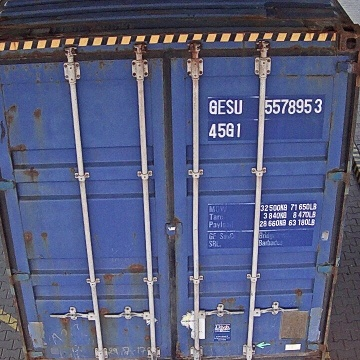serial_id: (210, 99, 321, 113)
